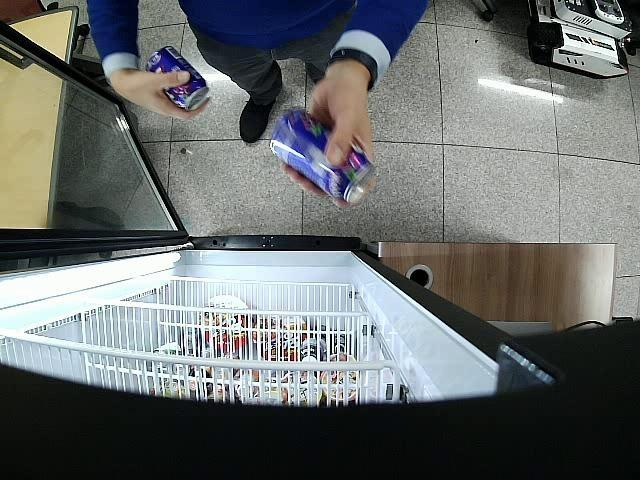14_welchsGrape: (270, 107, 376, 205), (147, 46, 209, 110)
